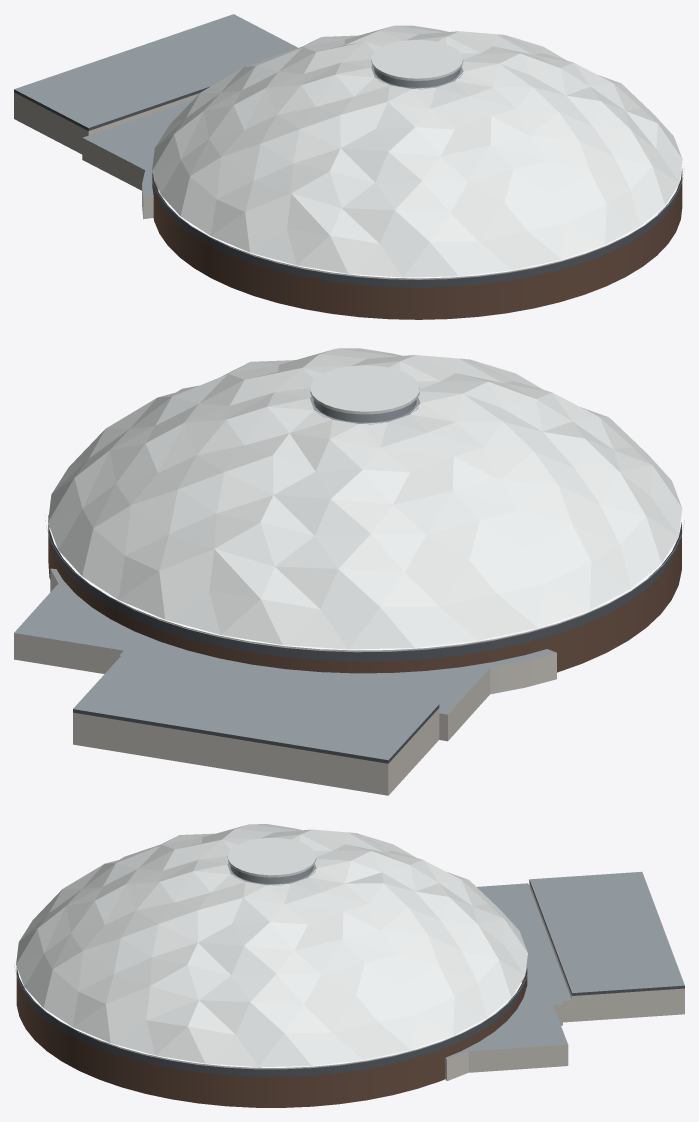
Rendered from detail.glb.
3 views of the same model, one above another, from view 1: azimuth 30°, elevation 25°; view 2: azimuth 150°, elevation 25°; view 3: azimuth 270°, elevation 25° (orthographic). The views are drawn at different scales.
Visible parts, largest first — view 1: tacoma-dome; view 2: tacoma-dome; view 3: tacoma-dome.
Boxes of the visible parts, x1,y1,x2,y2 form: tacoma-dome: (14, 14, 684, 319); tacoma-dome: (14, 348, 684, 795); tacoma-dome: (14, 824, 684, 1107).
Size of the model in its own units: 163 by 50 by 212.
